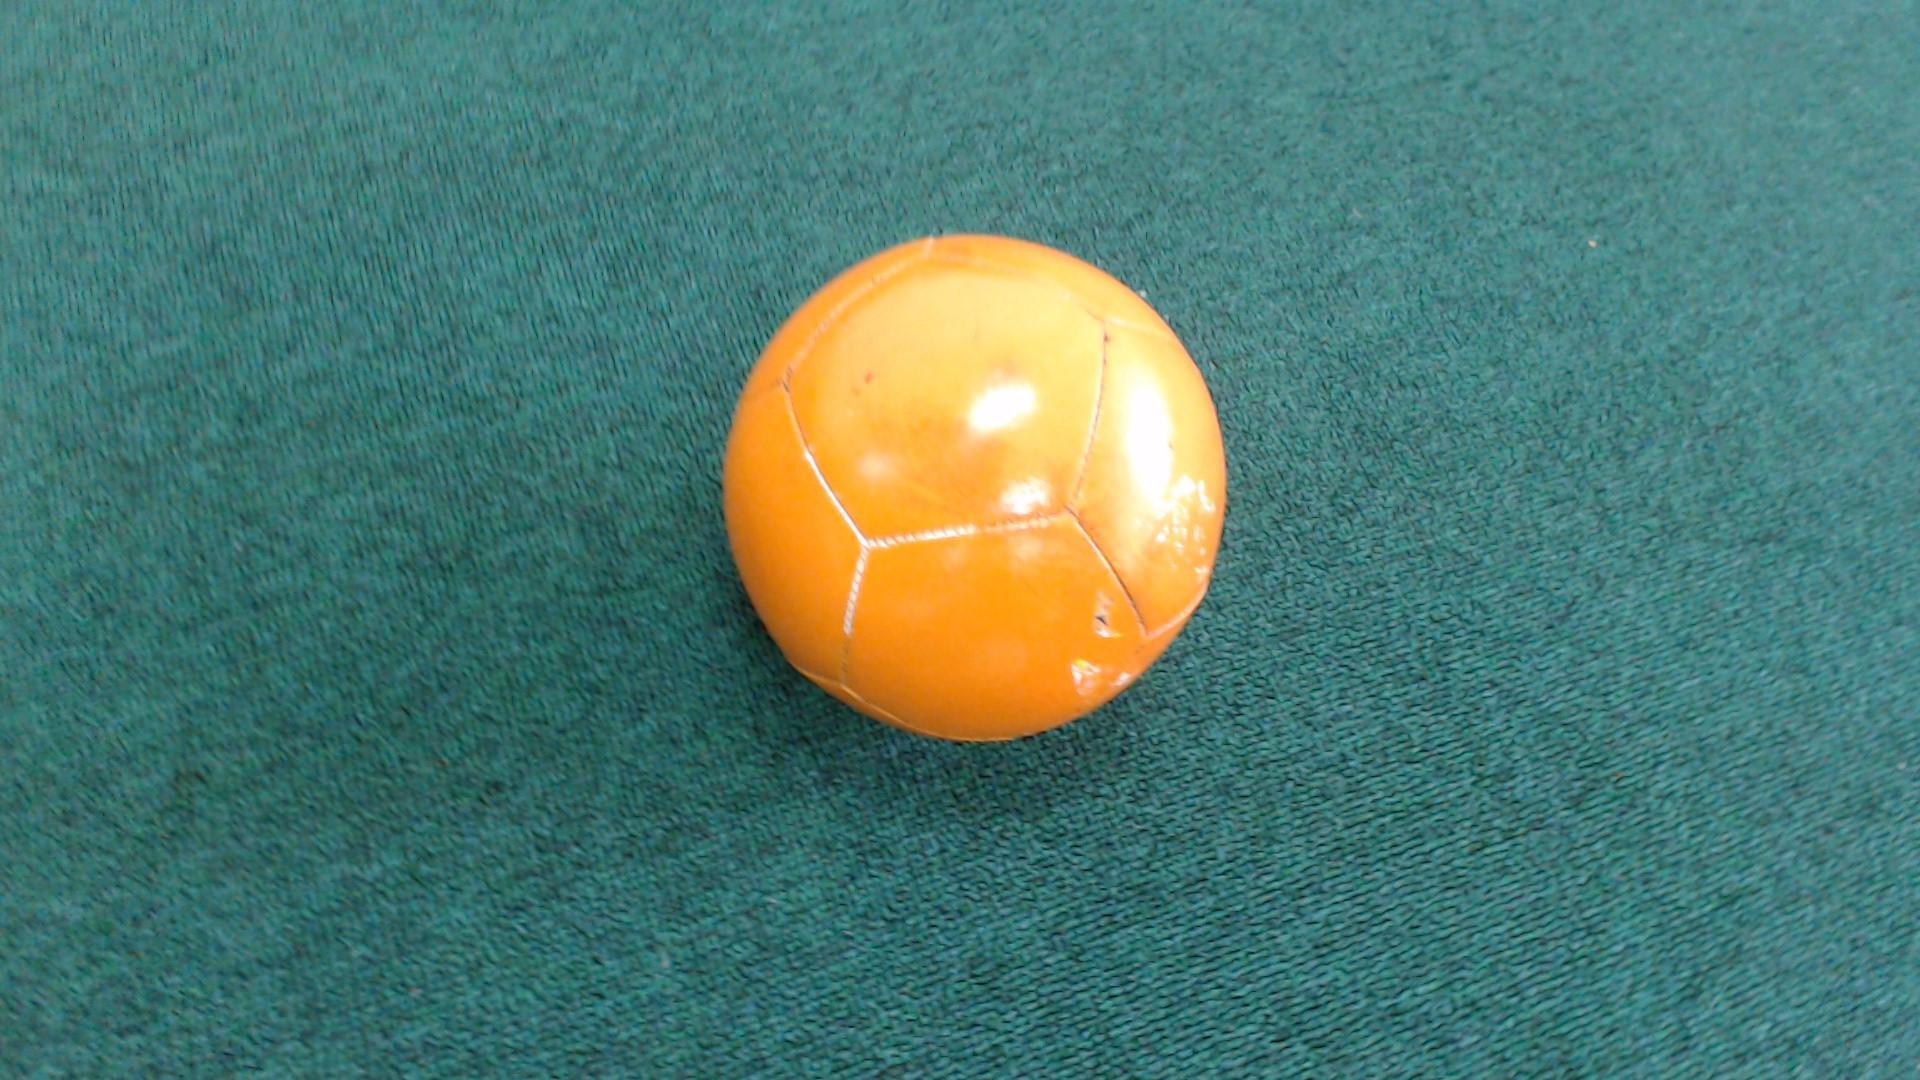bola: (698, 196, 1258, 786)
